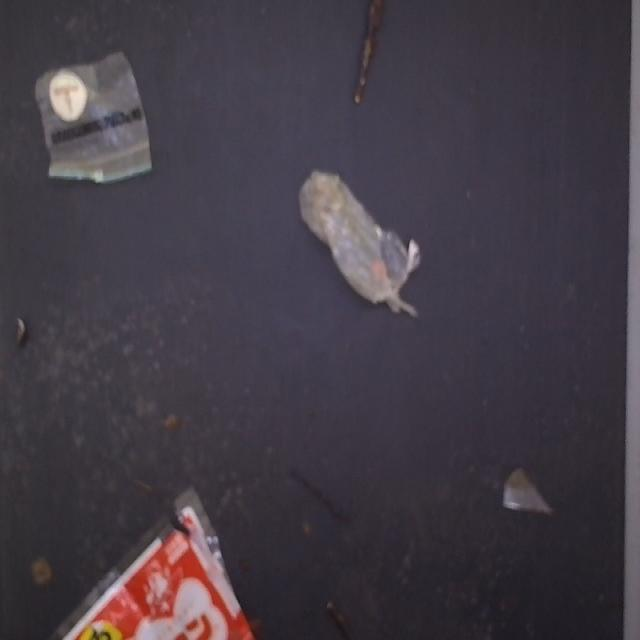food_wrapping: (24, 490, 254, 640)
plastic_films: (299, 160, 432, 328), (29, 59, 174, 189)
undef_hard_plastic: (499, 460, 564, 530)
